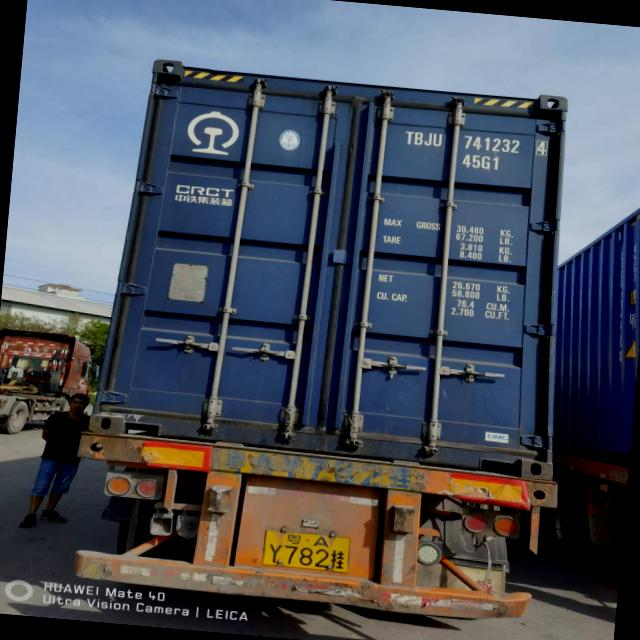seal: (381, 350, 399, 387)
